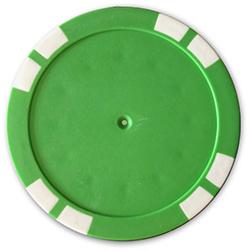chip-green: (8, 7, 240, 240)
